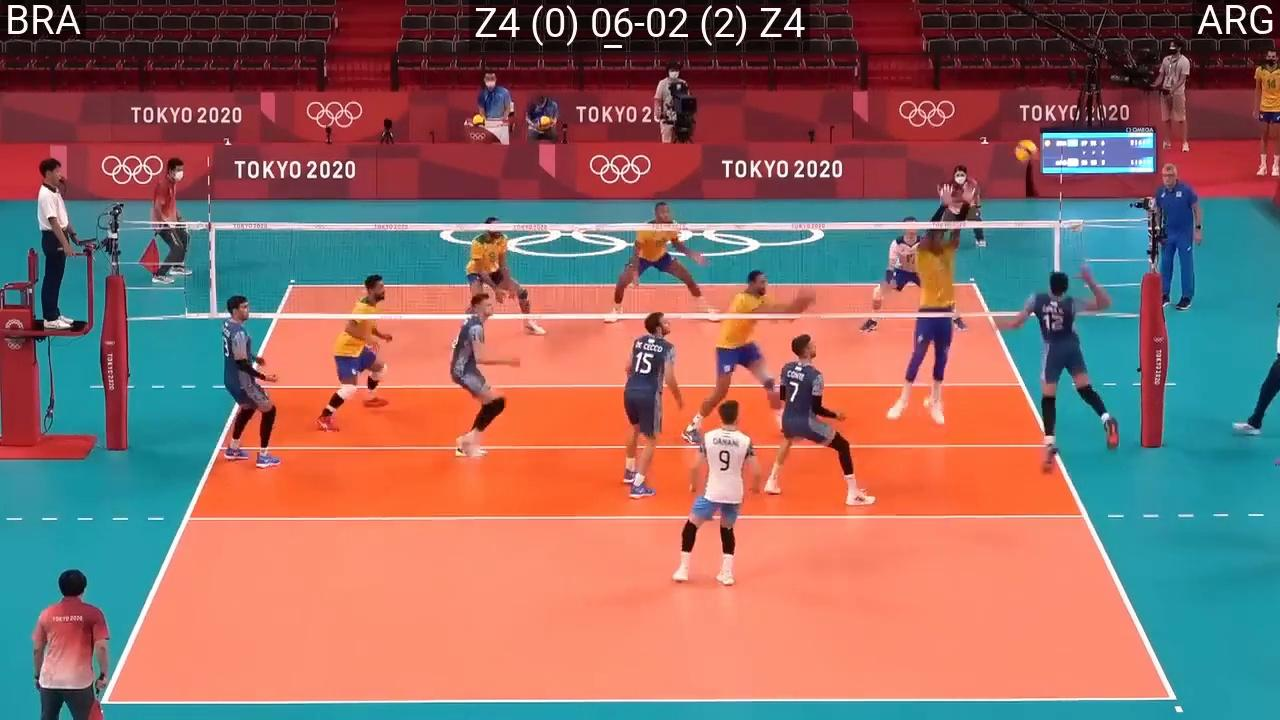ball: (1015, 142, 1038, 162)
